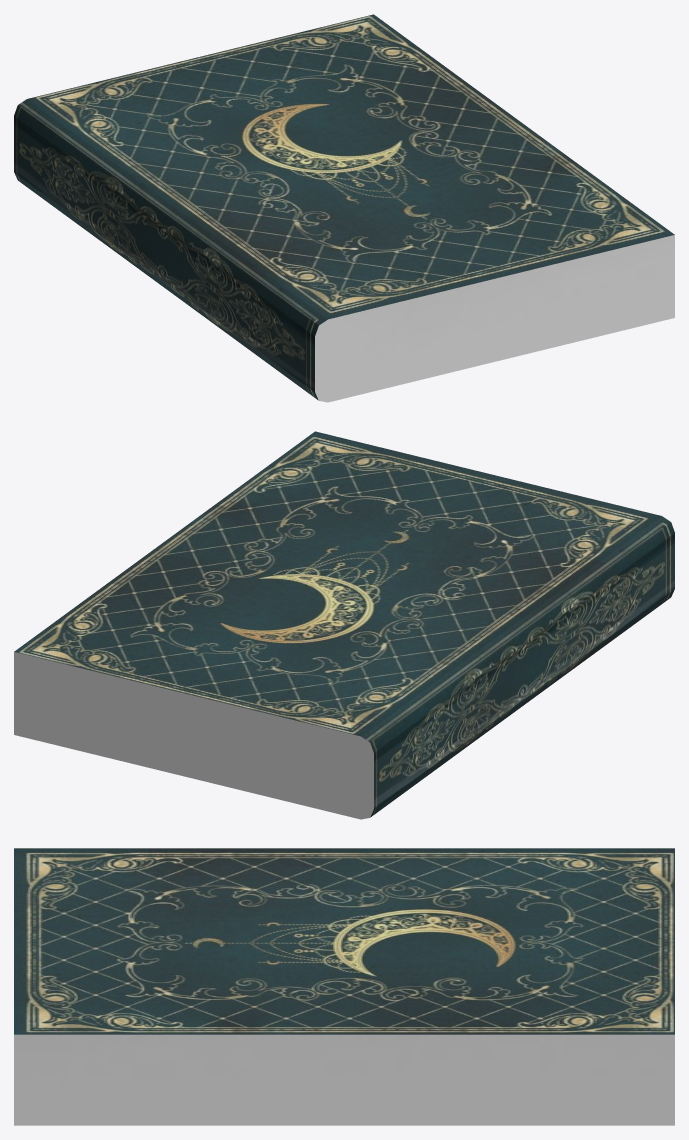
File: book_1.fbx
3 views of the same model, one above another, from view 1: azimuth 30°, elevation 25°; view 2: azimuth 150°, elevation 25°; view 3: azimuth 270°, elevation 25° (orthographic). The views are drawn at different scales.
Visible parts, largest first — view 1: Book; view 2: Book; view 3: Book.
Part boxes in pixels (x1,y1,x2,y2): Book: (14,14,674,402); Book: (14,431,674,819); Book: (14,848,674,1125).
Bounding box in the file's own units: 44.69 × 9.86 × 64.78.
1 material, 1 textured.
